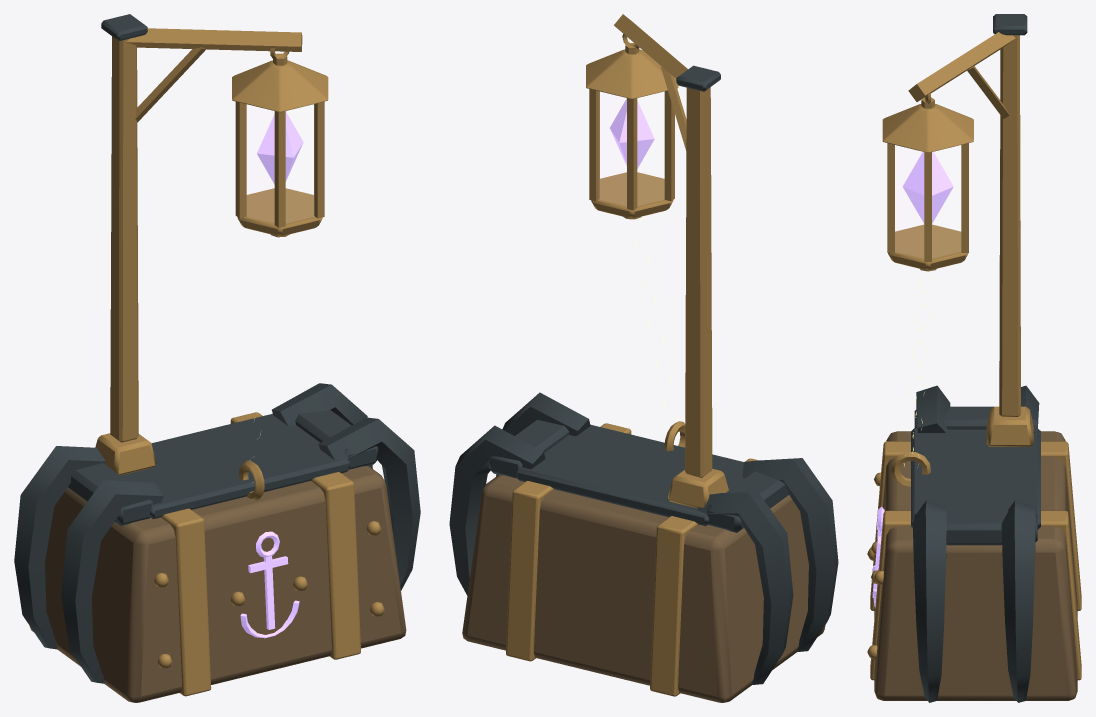
The model's file is anchor.glb.
The picture shows the model from 3 angles, left to right: view 1: azimuth 30°, elevation 25°; view 2: azimuth 150°, elevation 25°; view 3: azimuth 270°, elevation 25°; orthographic projection. The views are drawn at different scales.
Parts seen in each view (by area): view 1: body_metal_brass, body_metal_graphite, body_metal_brass_bright, lantern_metal_brass_bright, body_role_luminous, lantern_role_luminous; view 2: body_metal_brass, body_metal_graphite, body_metal_brass_bright, lantern_metal_brass_bright, lantern_role_luminous; view 3: body_metal_brass, body_metal_graphite, body_metal_brass_bright, lantern_metal_brass_bright, lantern_role_luminous, body_role_luminous.
Part boxes in pixels (left/top/right/bottom): body_metal_brass: left=29, top=466, right=406, bottom=702; body_metal_graphite: left=14, top=14, right=420, bottom=683; body_metal_brass_bright: left=95, top=28, right=384, bottom=696; lantern_metal_brass_bright: left=232, top=53, right=328, bottom=237; body_role_luminous: left=240, top=531, right=299, bottom=638; lantern_role_luminous: left=257, top=111, right=303, bottom=184; body_metal_brass: left=462, top=475, right=825, bottom=702; body_metal_graphite: left=449, top=65, right=838, bottom=684; body_metal_brass_bright: left=506, top=14, right=758, bottom=696; lantern_metal_brass_bright: left=586, top=43, right=678, bottom=219; lantern_role_luminous: left=610, top=98, right=654, bottom=168; body_metal_brass: left=874, top=431, right=1077, bottom=700; body_metal_graphite: left=911, top=14, right=1040, bottom=702; body_metal_brass_bright: left=867, top=32, right=1081, bottom=680; lantern_metal_brass_bright: left=882, top=97, right=973, bottom=271; lantern_role_luminous: left=902, top=151, right=953, bottom=223; body_role_luminous: left=872, top=506, right=884, bottom=607.
Bounding box in the file's own units: 1.14 × 1.89 × 0.6278.
